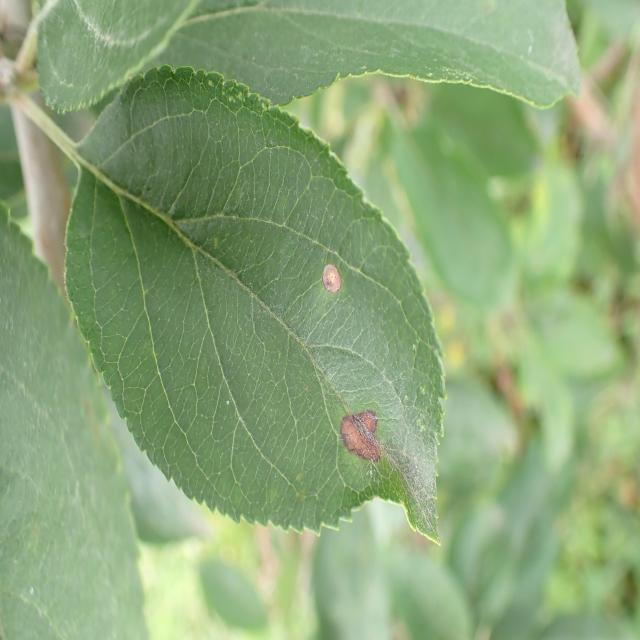Black Rot: (332, 386, 388, 478), (312, 254, 350, 319)
